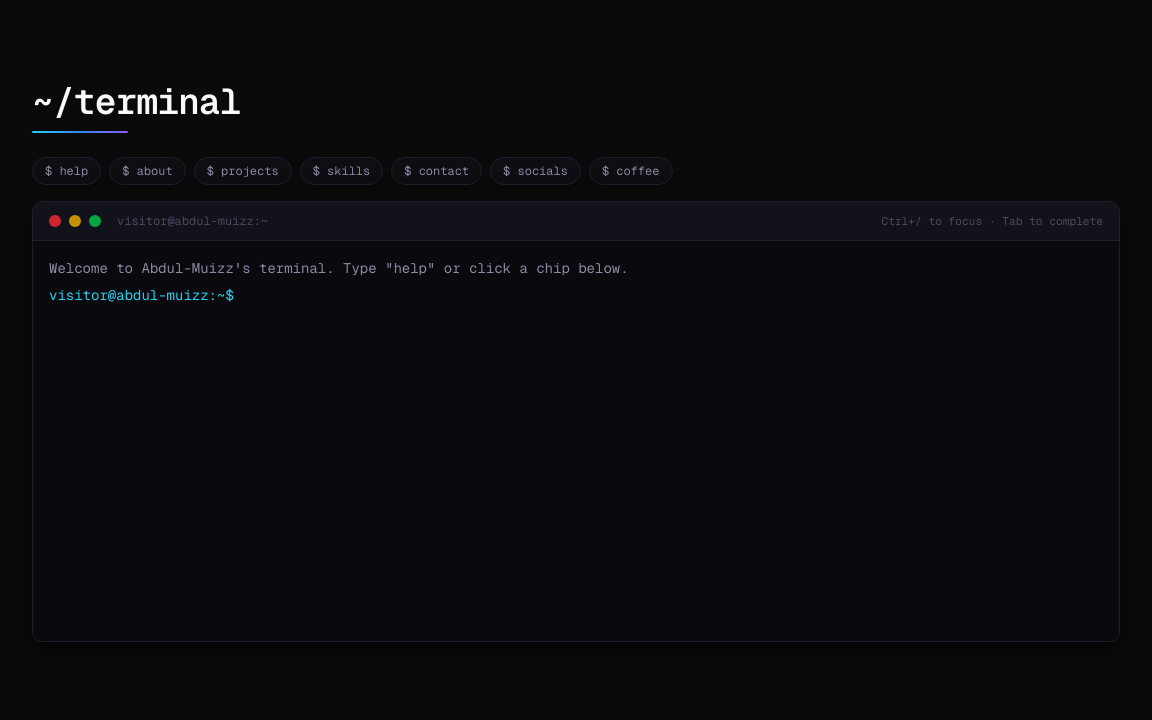
Test: HomeTerminal › runs a command when a suggestion chip is clicked
Click the button "$ about" at (147, 171), box [109,157,186,185]
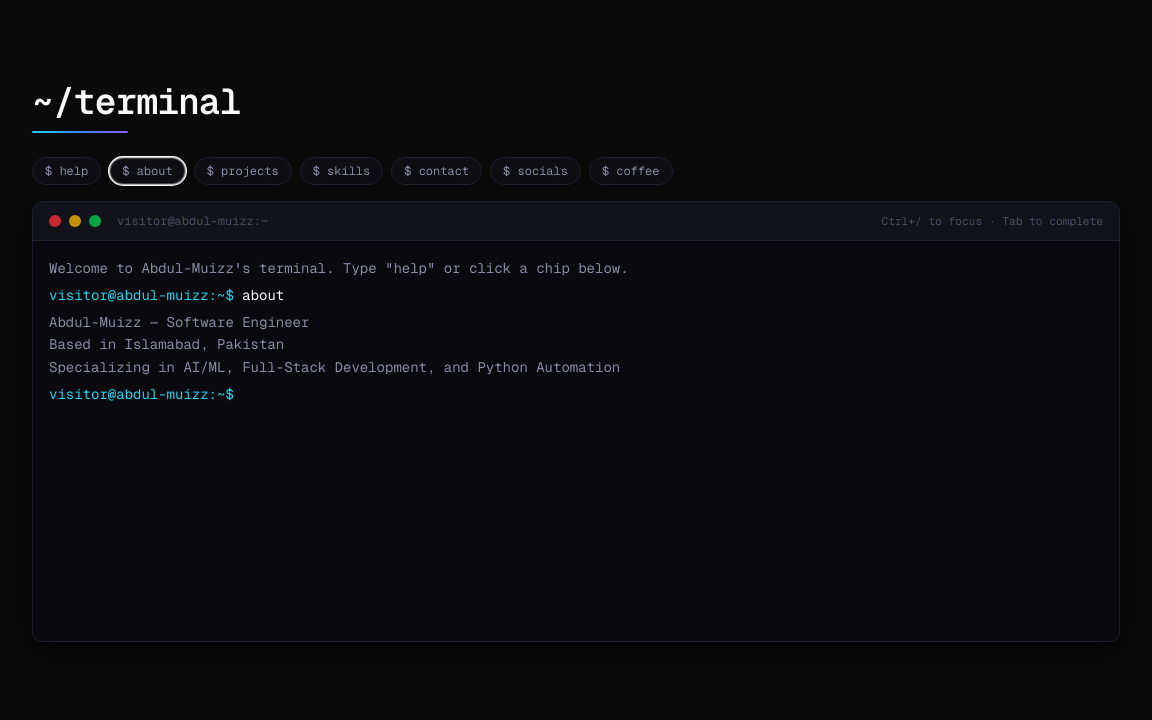
Expected: the text "Specializing in AI/ML" is shown, [49,313,620,376]
